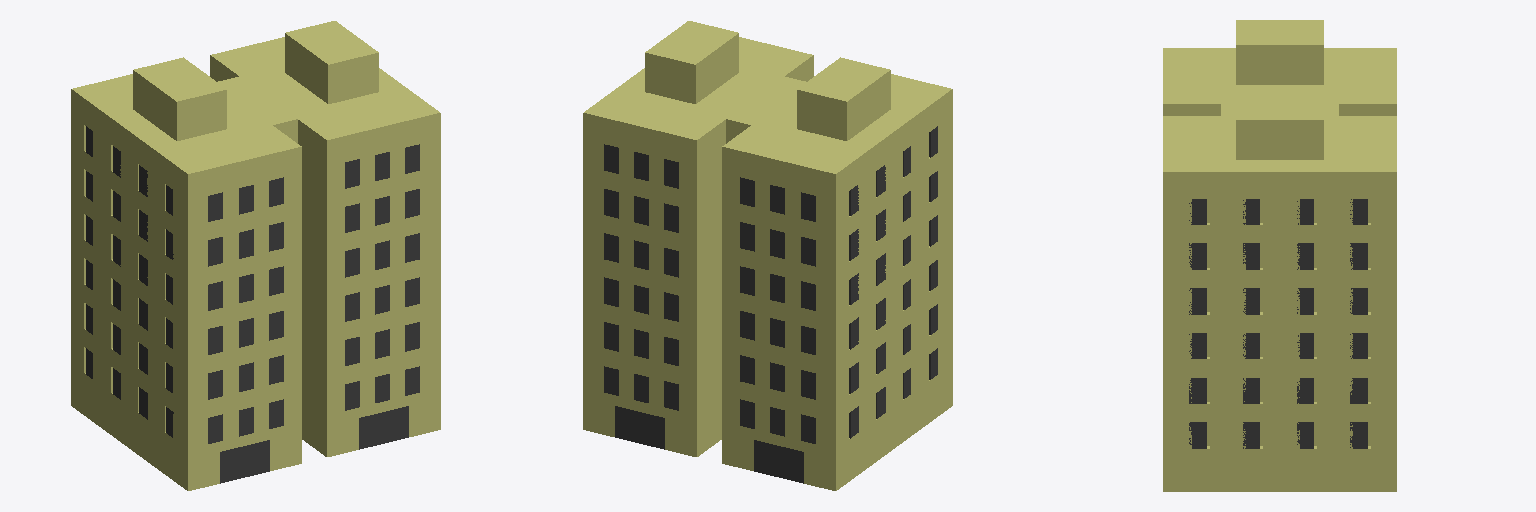
The robot description file, URDF, robot "building_1":
<?xml version="1.0"?> 

<!-- Copyright 2023 [author] -->

<!-- Licensed under the Apache License, Version 2.0 (the "License"); -->
<!-- you may not use this file except in compliance with the License. -->
<!-- You may obtain a copy of the License at -->

<!--     http://www.apache.org/licenses/LICENSE-2.0 -->

<!-- Unless required by applicable law or agreed to in writing, software -->
<!-- distributed under the License is distributed on an "AS IS" BASIS, -->
<!-- WITHOUT WARRANTIES OR CONDITIONS OF ANY KIND, either express or implied. -->
<!-- See the License for the specific language governing permissions and -->
<!-- limitations under the License. -->

<!-- Authors: [author], [author] -->

<robot name="building_1">
    <link name="building_1">
        <visual>
            <origin xyz="0 0 0" rpy="0 0 0" />
            <geometry>
                <mesh filename='meshes/building_1.stl' scale='0.085 0.085 0.085' />
            </geometry>
            <material name="ochre">
                <color rgba="0.8 0.8 0.5 1"/>
            </material>
        </visual>
        <collision>
            <origin xyz="0 0 0" rpy="0 0 0" />
            <geometry>
                <mesh filename='meshes/building_1.stl' scale='0.085 0.085 0.085' />
            </geometry>
        </collision>
        <inertial>
            <mass value="10"/>
            <inertia ixx="0.4" ixy="0.0" ixz="0.0" iyy="0.4" iyz="0.0" izz="0.2" />
        </inertial>
    </link>
    <link name="windows">
        <visual>
            <origin xyz="0 0 0" rpy="0 0 0" />
            <geometry>
                <mesh filename='meshes/building_1windows.stl' scale='0.085 0.085 0.085'/>
            </geometry>
            <material name="black">
                <color rgba="0.3 0.3 0.3 1"/>
            </material>
        </visual>
        <collision>
            <origin xyz="0 0 0" rpy="0 0 0" />
            <geometry>
                <mesh filename='meshes/building_1windows.stl' scale='0.085 0.085 0.085'/>
            </geometry>
        </collision>
        <inertial>
            <mass value="10"/>
            <inertia ixx="0.4" ixy="0.0" ixz="0.0" iyy="0.4" iyz="0.0" izz="0.2" />
        </inertial>
    </link>
    <joint name="window" type="fixed">
        <origin rpy="0 0 0" xyz="0 0 0"/>
        <parent link="building_1"/>
        <child link="windows"/>
    </joint>
    <link name="doors">
        <visual>
            <origin xyz="0 0 0" rpy="0 0 0" />
            <geometry>
                <mesh filename='meshes/building_1doors.stl' scale='0.085 0.085 0.085'/>
            </geometry>
            <material name="black">
                <color rgba="0.3 0.3 0.3 1"/>
            </material>
        </visual>
        <collision>
            <origin xyz="0 0 0" rpy="0 0 0" />
            <geometry>
                <mesh filename='meshes/building_1doors.stl' scale='0.085 0.085 0.085'/>
            </geometry>
        </collision>
        <inertial>
            <mass value="10"/>
            <inertia ixx="0.4" ixy="0.0" ixz="0.0" iyy="0.4" iyz="0.0" izz="0.2" />
        </inertial>
    </link>
    <joint name="door" type="fixed">
        <origin rpy="0 0 0" xyz="0 0 0"/>
        <parent link="building_1"/>
        <child link="doors"/>
        <axis xyz="-1 0 0"/>
    </joint>
</robot>

--- Facts derived from the render (not from the file) ---
Views: 3 orthographic renders of the robot side by side, from view 1: azimuth 30°, elevation 25°; view 2: azimuth 150°, elevation 25°; view 3: azimuth 270°, elevation 25°.
Robot: building_1 — 3 links, 2 joints (2 fixed); root link building_1; default pose: all joints at 0.
Visible links, largest first — view 1: building_1, windows, doors; view 2: building_1, windows, doors; view 3: building_1, windows.
Boxes of the visible links, x1,y1,x2,y2 form: building_1: (71,21,440,490); windows: (86,126,419,443); doors: (220,406,408,483); building_1: (583,21,952,490); windows: (604,126,937,443); doors: (615,406,803,483); building_1: (1163,20,1396,491); windows: (1189,199,1367,448).
Bounding box of the posed robot: 4.25 × 3.4 × 5.74 m (x, y, z).
3 mesh visuals loaded from 3 distinct referenced files (3 binary STL).
